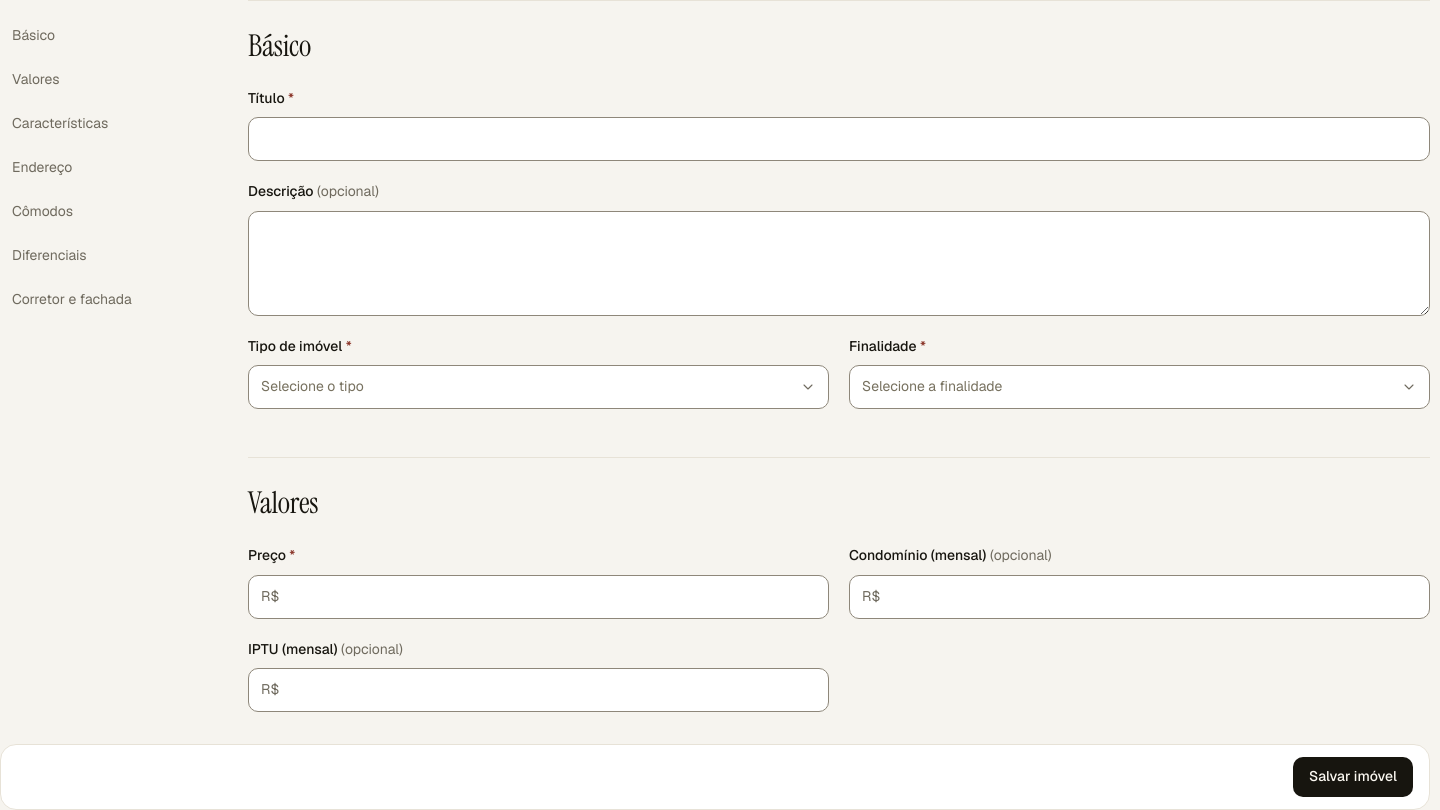
Test: PropertyForm (RF-27) › submeter vazio mostra erros em pt-BR, resumo com links e foca o primeiro campo inválido
What coordinates should you click on to do the following:
click the button "Salvar imóvel"
I would click on:
 (1353, 777)
Its box is [1293, 757, 1413, 797].
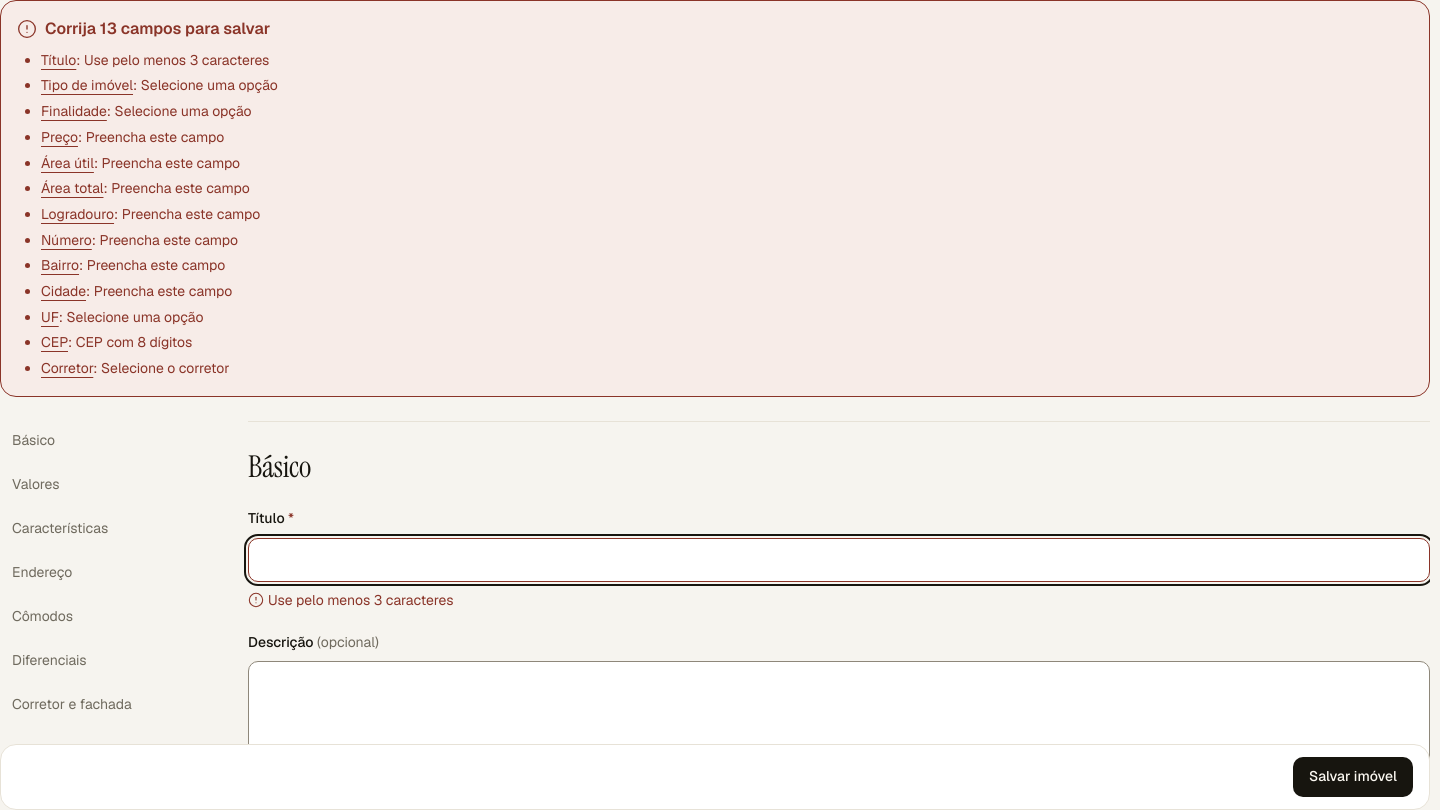
Result: the link "Título" is shown at [41, 51, 76, 69]
Result: the link "Preço" is shown at [41, 128, 78, 146]
